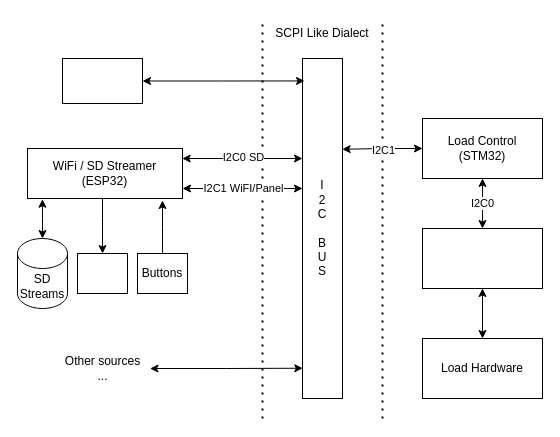
The diagram is 560 pixels wide and 437 high, and some of its shapes have lost their labels. Here are the shapes that lost their labels. From the top down, the centre of each, then its label:
the point at 102,81: USB > I2C (Optional)
the point at 102,273: LCD
the point at 482,258: DACs/ADCs
